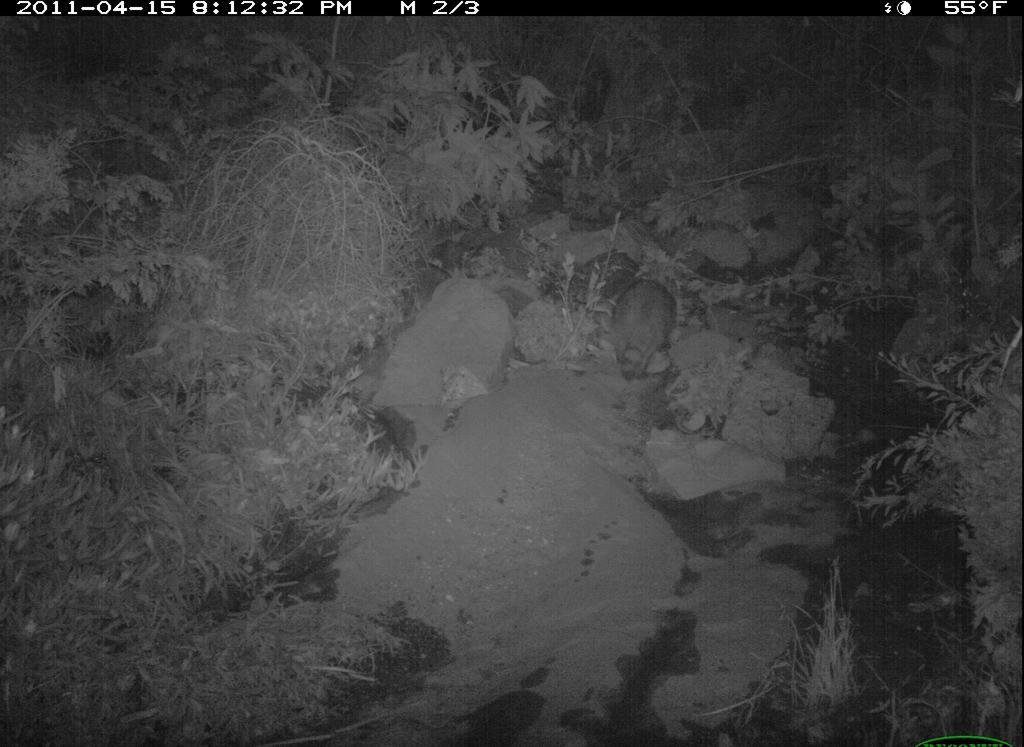raccoon: (600, 263, 681, 387)
